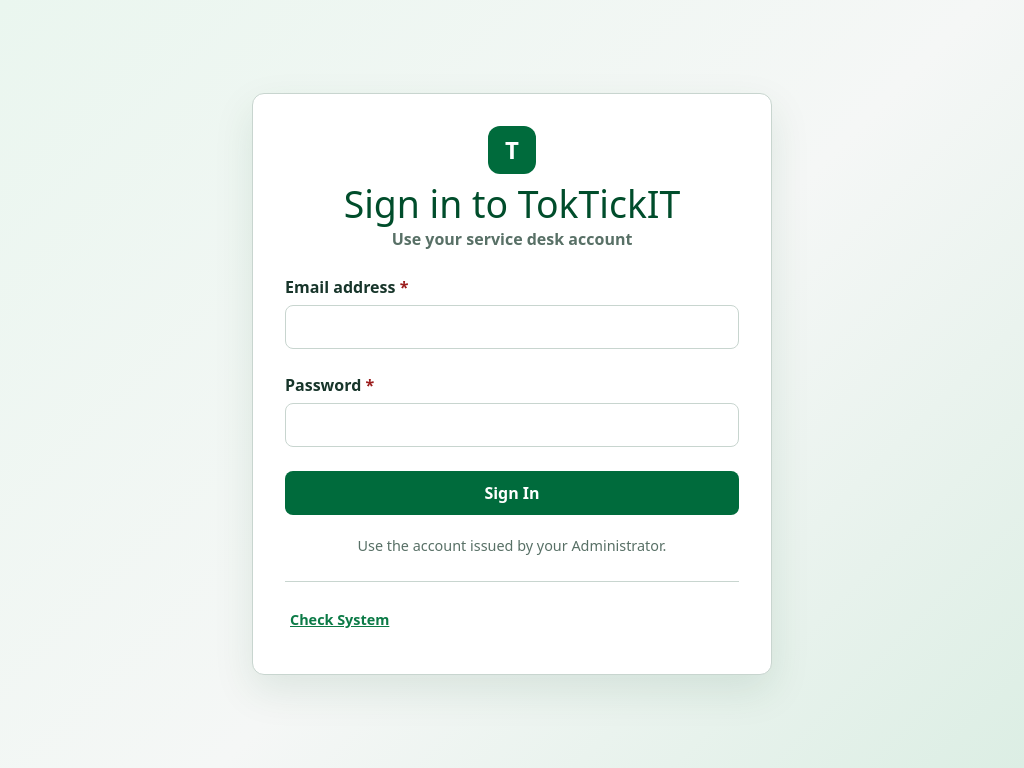
Lab 3 authentication › requires a password change before entering the normal shell
The image size is (1024, 768).
Type "initial@example.edu" into the field labelled "Email address *" at (512, 327), box [285,305,739,349]
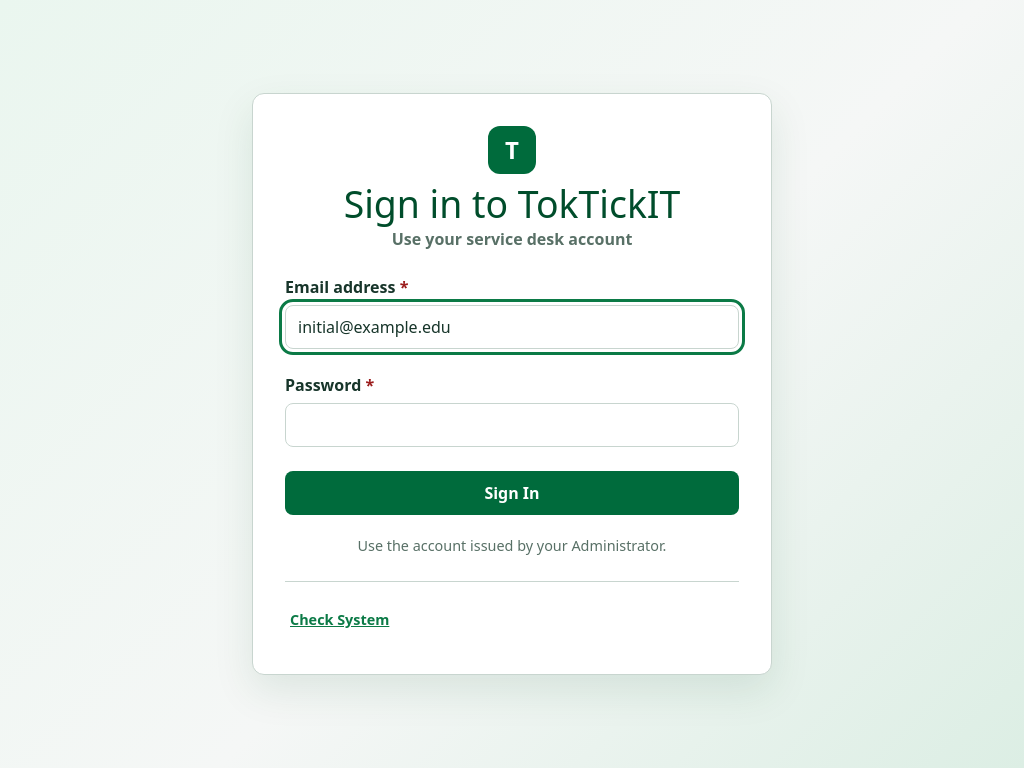
Type "initial-password" into the password field labelled "Password *" at (512, 425), box [285,403,739,447]
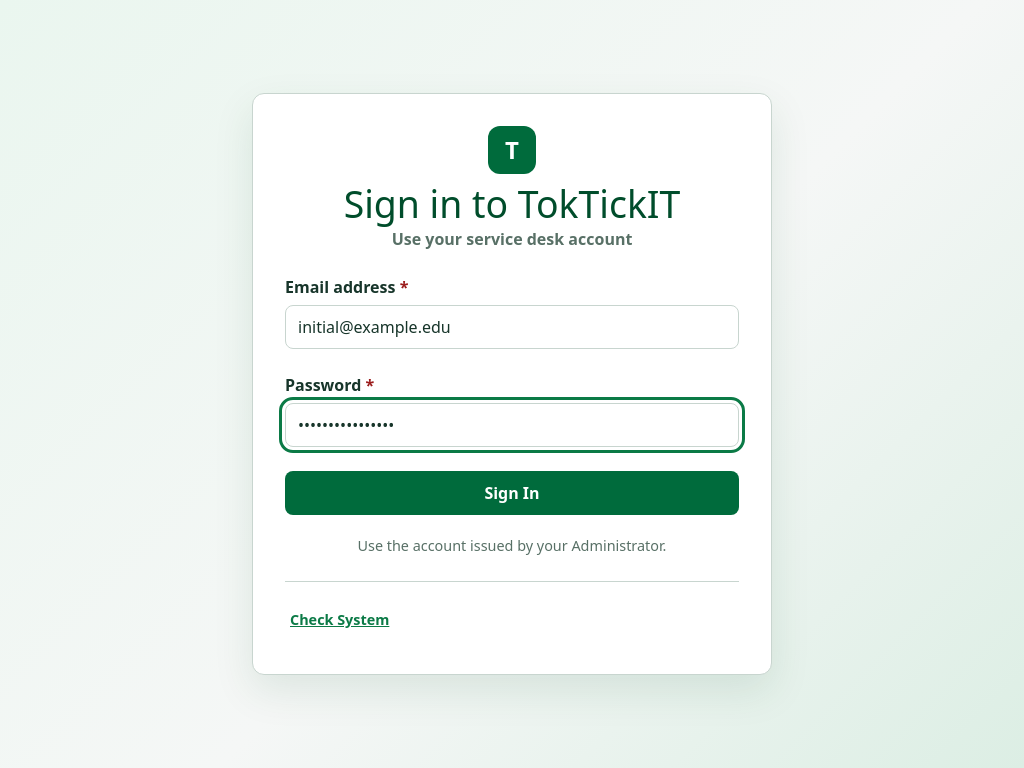
Click the button "Sign In" at (512, 493), box [285,471,739,515]
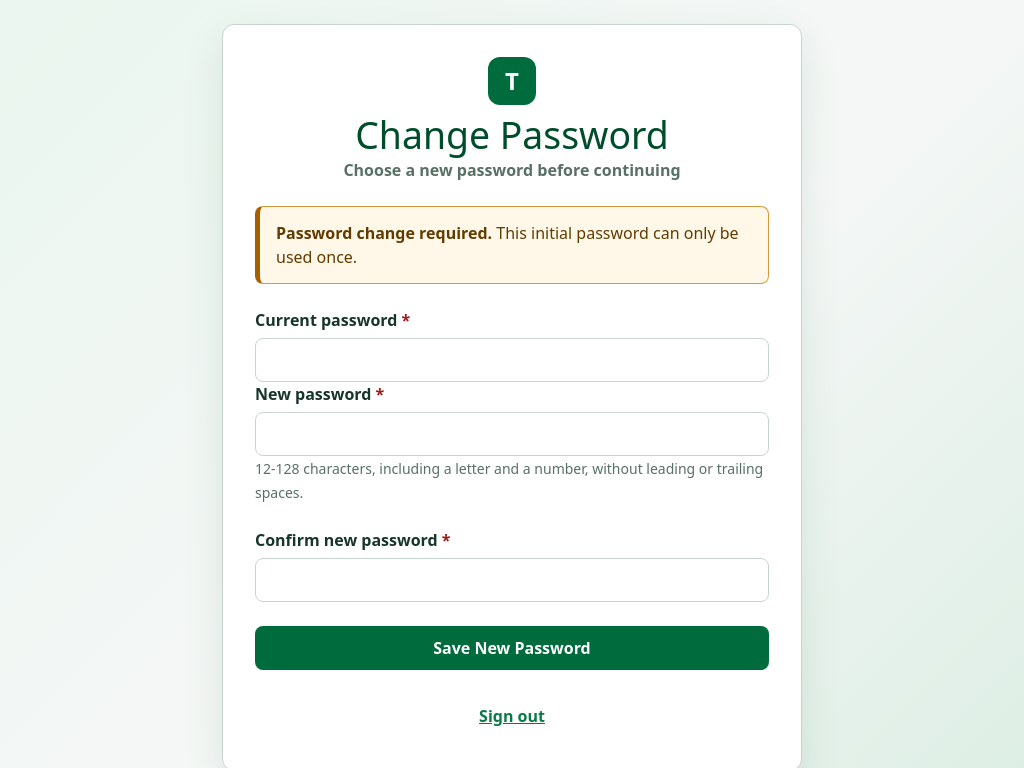
Check: the heading "Change Password" is shown, box [355,109,669,160]
